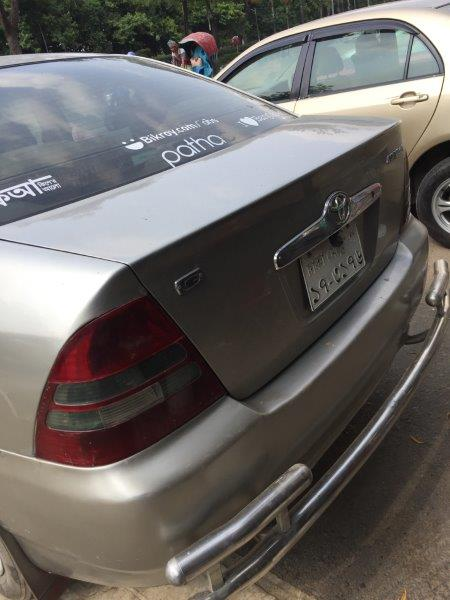car: (1, 52, 434, 588)
